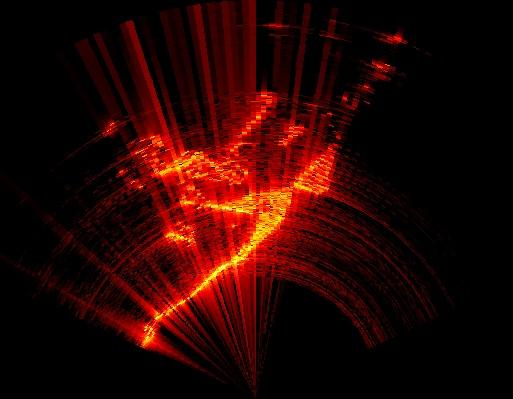shipwreck: (151, 141, 340, 339), (130, 95, 268, 182)
